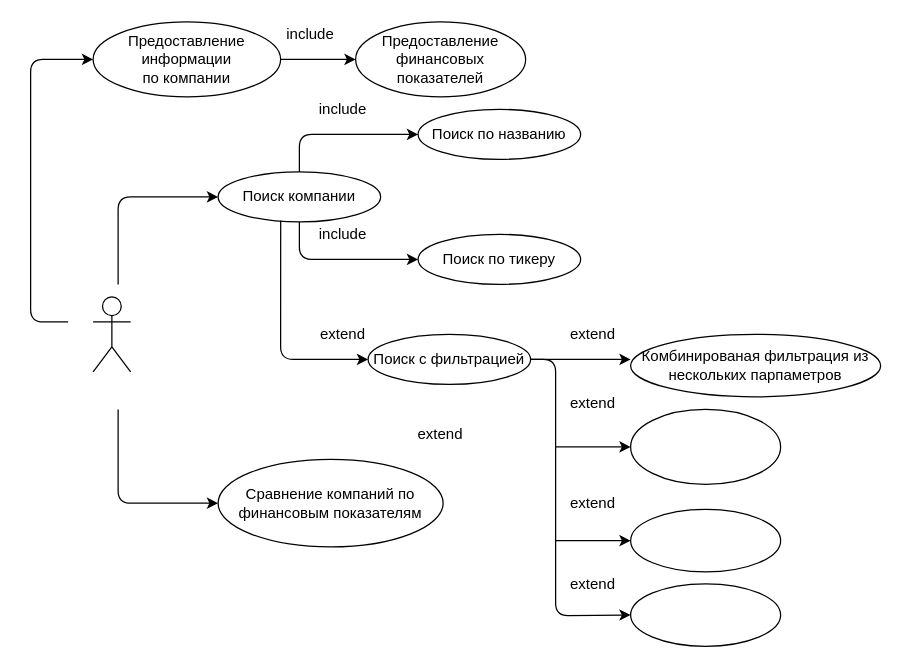
The diagram is 903 pixels wide and 669 high, and some of its shapes have lost their labels. The shapes that lost their labels are listed below. From the top down, each one's box as (x1, y1, x2, y2) in pixels, then its label:
(92, 296, 131, 372): Пользователь
(629, 408, 781, 484): Фильтрация по секторам и индустриям
(629, 508, 781, 572): Фильтрация по странам
(629, 582, 781, 646): Фильтрация с условиями
